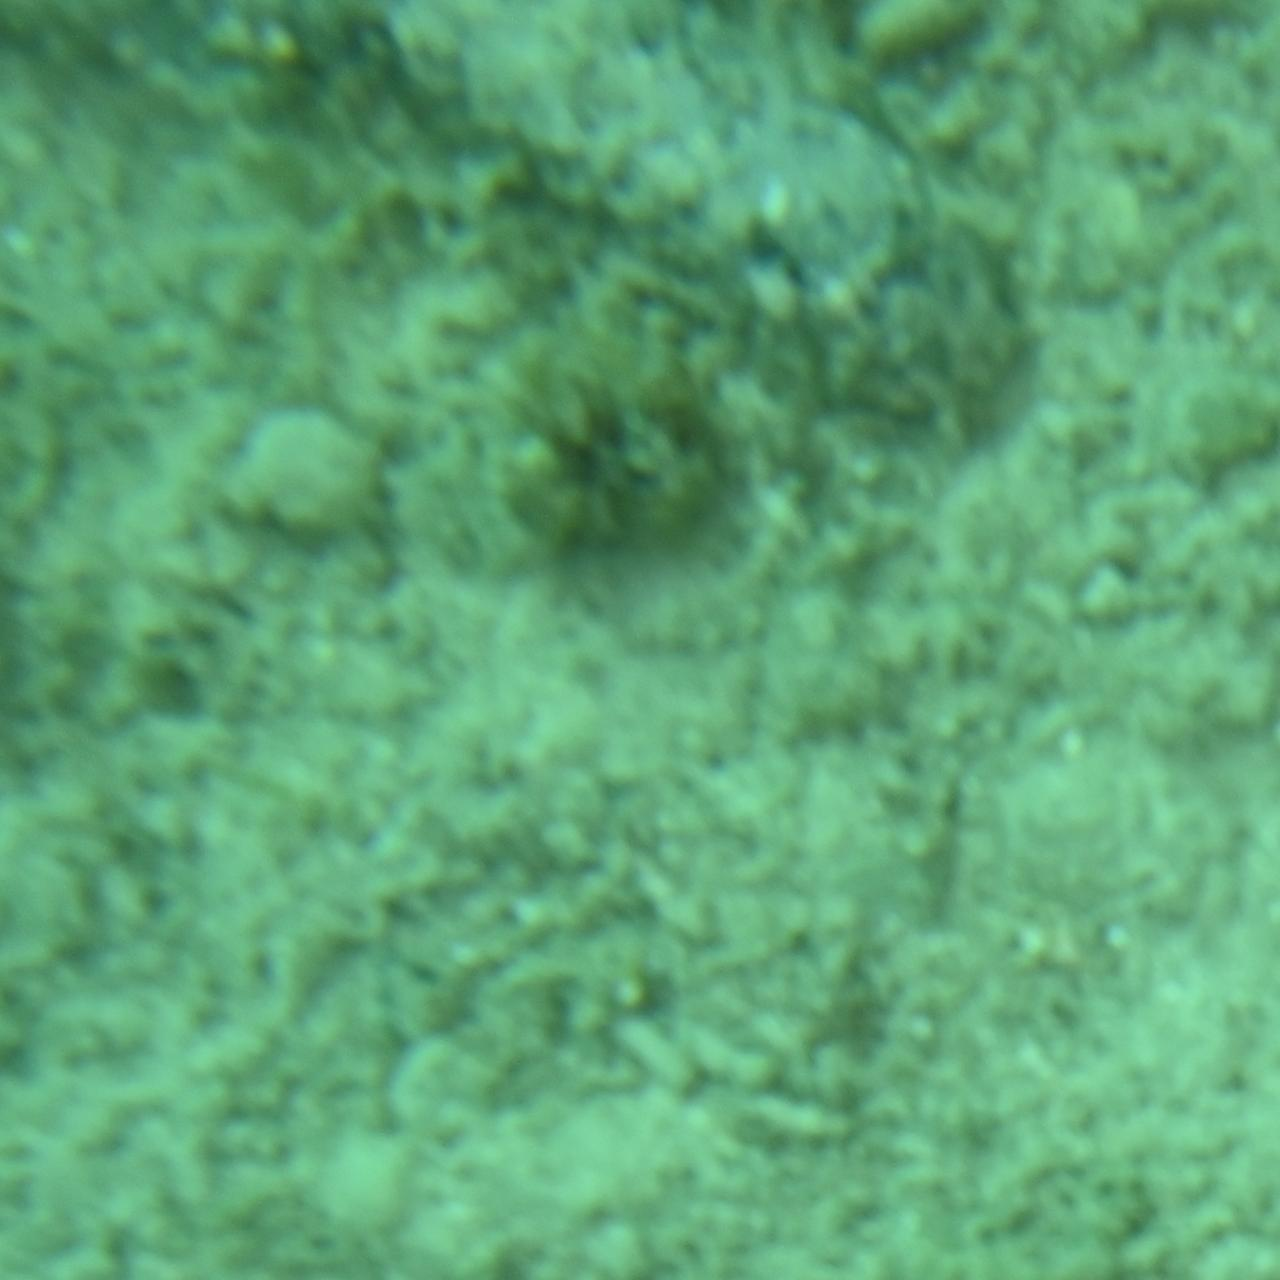Holothuria tubulosa: (250, 0, 1030, 440)
